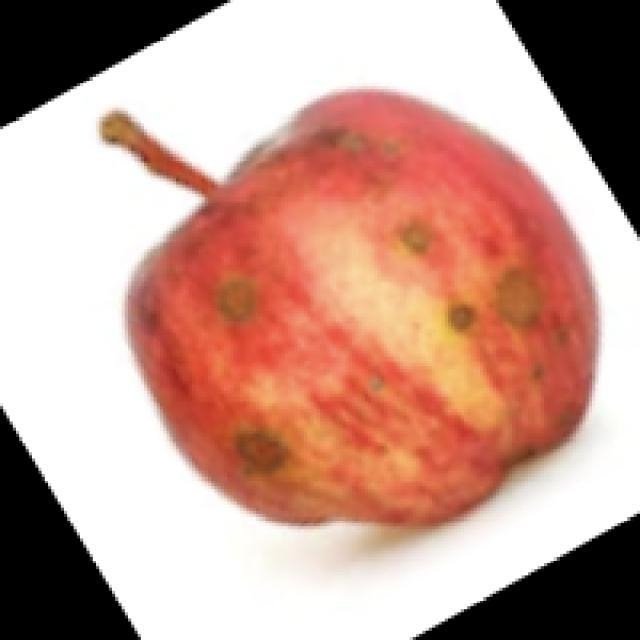Rotten: (124, 92, 594, 540)
